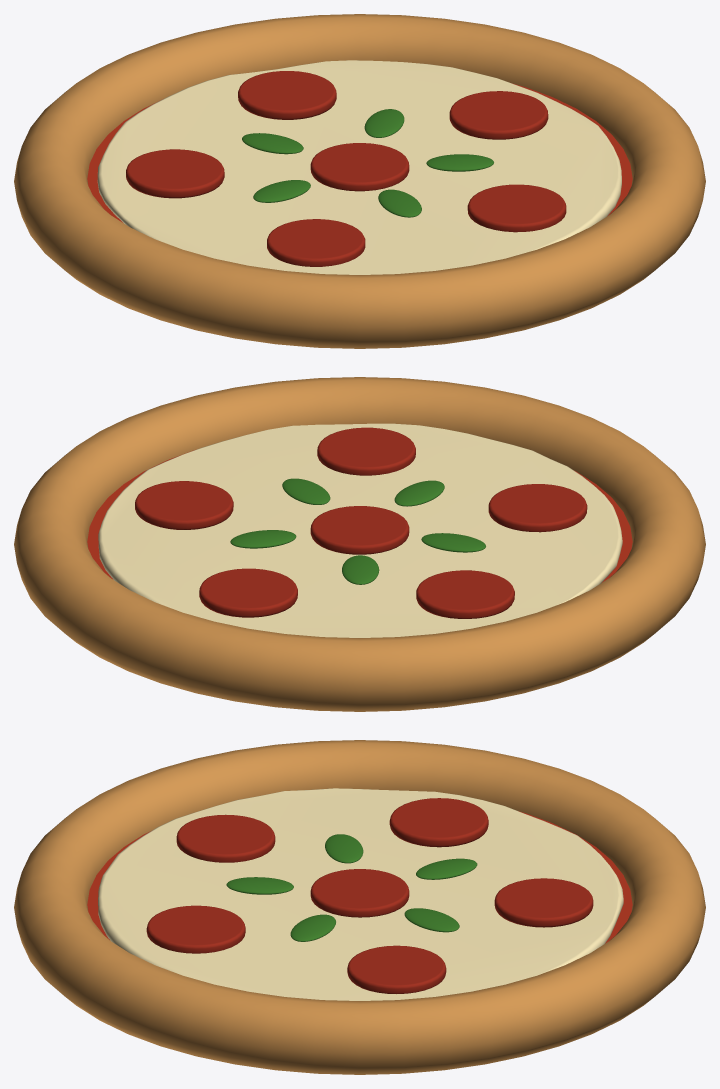
Rendered from pizza.glb.
The picture shows the model from 3 angles, top to bottom: view 1: azimuth 30°, elevation 25°; view 2: azimuth 150°, elevation 25°; view 3: azimuth 270°, elevation 25°; orthographic projection.
Parts seen in each view (by area): view 1: Crust, Cheese, Pepperoni.002, Pepperoni.001, Pepperoni, Pepperoni.005, Pepperoni.003, Pepperoni.004, Sauce, Basil.004, Basil.001, Basil.002 (+2 smaller); view 2: Crust, Cheese, Pepperoni.001, Pepperoni.002, Pepperoni, Pepperoni.005, Pepperoni.003, Pepperoni.004, Sauce, Basil, Basil.002, Basil.003 (+2 smaller); view 3: Crust, Cheese, Pepperoni.001, Pepperoni.002, Pepperoni.005, Pepperoni, Pepperoni.004, Pepperoni.003, Sauce, Basil.003, Basil.001, Basil (+2 smaller).
Part boxes in pixels (box(x1,y1,x2,y2)): Crust: box(14, 14, 705, 348); Cheese: box(97, 60, 621, 274); Pepperoni.002: box(126, 149, 224, 198); Pepperoni.001: box(238, 71, 336, 119); Pepperoni: box(449, 91, 548, 139); Pepperoni.005: box(310, 143, 409, 191); Pepperoni.003: box(267, 219, 365, 266); Pepperoni.004: box(467, 184, 566, 232); Sauce: box(87, 83, 632, 222); Basil.004: box(426, 154, 493, 171); Basil.001: box(242, 133, 303, 154); Basil.002: box(253, 180, 310, 202); Crust: box(14, 377, 705, 711); Cheese: box(98, 423, 622, 637); Pepperoni.001: box(199, 568, 297, 617); Pepperoni.002: box(416, 570, 514, 618); Pepperoni: box(135, 481, 233, 529); Pepperoni.005: box(310, 506, 409, 554); Pepperoni.003: box(488, 484, 587, 532); Pepperoni.004: box(317, 427, 415, 475); Sauce: box(87, 450, 632, 582); Basil: box(230, 530, 296, 548); Basil.002: box(421, 533, 485, 552); Basil.003: box(394, 480, 444, 506); Crust: box(14, 740, 705, 1074); Cheese: box(98, 788, 623, 1000); Pepperoni.001: box(494, 878, 593, 927); Pepperoni.002: box(389, 798, 488, 847); Pepperoni.005: box(310, 869, 409, 917); Pepperoni: box(347, 945, 446, 993); Pepperoni.004: box(146, 905, 245, 953); Pepperoni.003: box(176, 814, 275, 862); Sauce: box(87, 811, 632, 943); Basil.003: box(226, 877, 293, 894); Basil.001: box(416, 858, 477, 879); Basil: box(404, 908, 459, 932).
Size of the model in its own units: 0.448 by 0.048 by 0.448.
